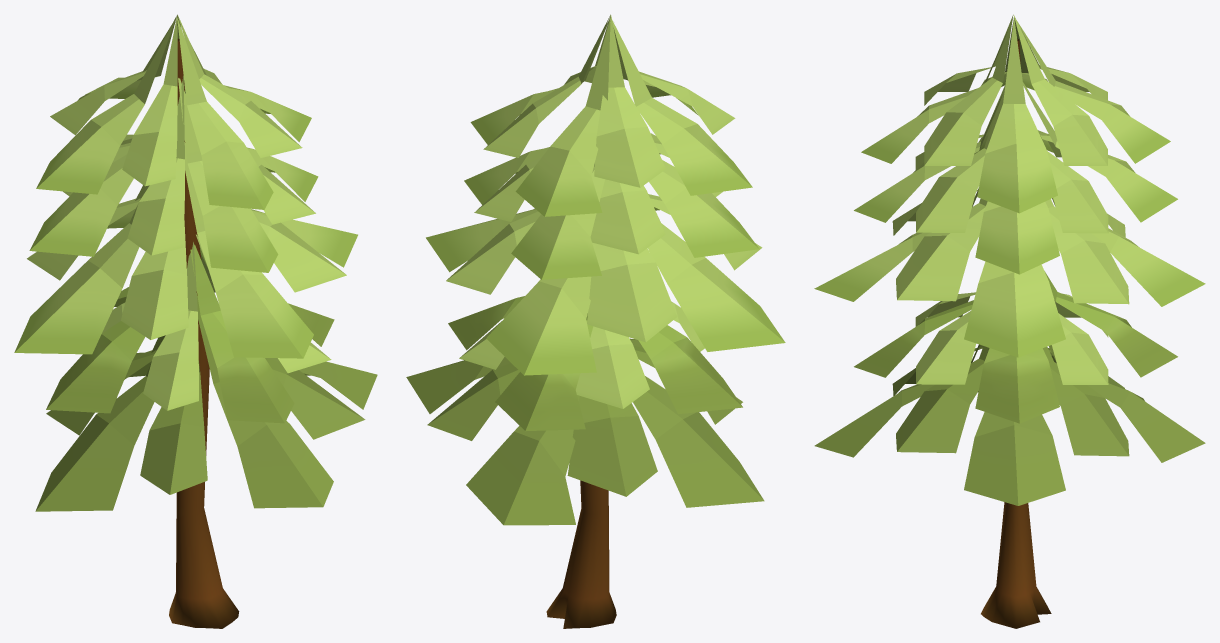
The model's file is Arvore3.glb.
3 renders of one model, left to right at view 1: azimuth 30°, elevation 25°; view 2: azimuth 150°, elevation 25°; view 3: azimuth 270°, elevation 25°, orthographic. The views are drawn at different scales.
Parts seen in each view (by area): view 1: Arvore3; view 2: Arvore3; view 3: Arvore3.
Boxes of the visible parts, x1,y1,x2,y2 form: Arvore3: (14, 14, 377, 628); Arvore3: (406, 14, 785, 628); Arvore3: (814, 14, 1205, 628).
Bounding box in the file's own units: 4.47 × 7 × 4.23.
Materials: 1 (1 with a texture image).
